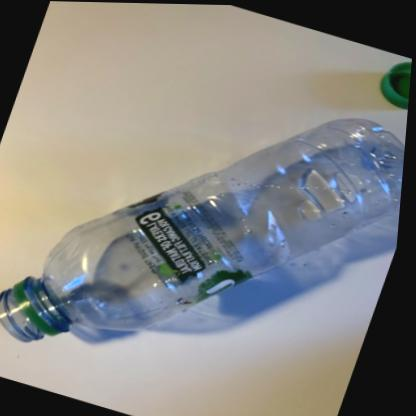Plastic: (0, 115, 407, 341)
Waste: (383, 58, 413, 104)
